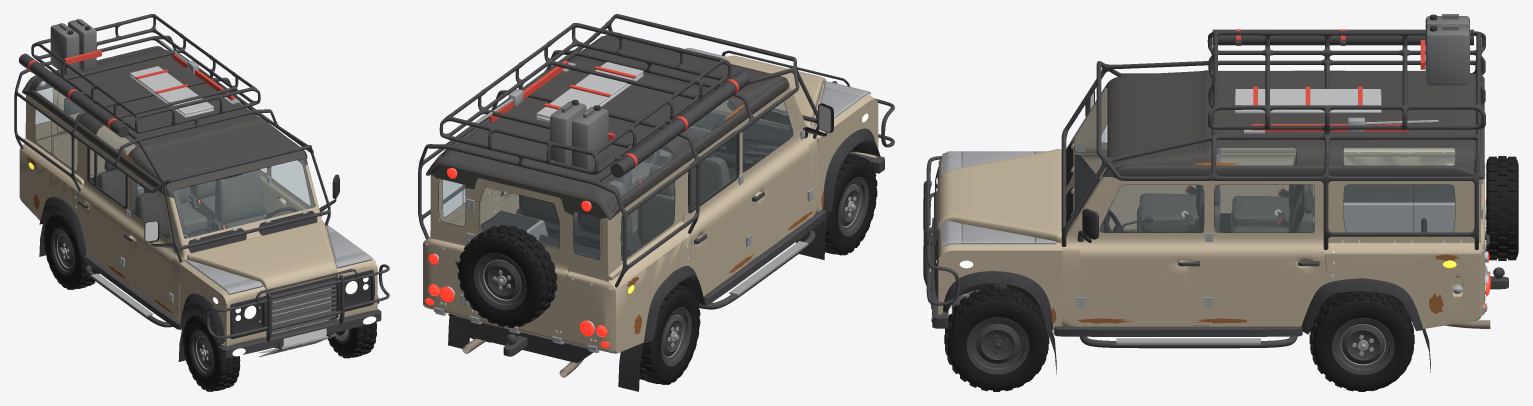
Rendered from garilla-rig.glb.
The picture shows the model from 3 angles, left to right: view 1: azimuth 30°, elevation 25°; view 2: azimuth 150°, elevation 25°; view 3: azimuth 270°, elevation 25°; orthographic projection. The views are drawn at different scales.
Visible parts, largest first — view 1: body__shell, gear__roof_rack, body__front, body__interior, body__hood, body__door_fr, body__door_rr, armor__bumper_front, wheel__fr, wheel__rr, body__door_fl, body__tailgate (+4 smaller); view 2: body__shell, gear__roof_rack, body__interior, body__door_fr, wheel__spare, body__door_rr, body__tailgate, body__front, wheel__rr, wheel__fr, armor__sliders, frame__ladder (+4 smaller); view 3: body__shell, gear__roof_rack, body__door_fl, body__door_rl, body__interior, body__front, body__hood, wheel__fl, wheel__rl, armor__sliders, wheel__spare, body__door_fr (+2 smaller).
Part boxes in pixels (<box>): body__shell: <box>19,46,322,322</box>; gear__roof_rack: <box>14,14,330,262</box>; body__front: <box>178,225,379,361</box>; body__interior: <box>78,148,297,287</box>; body__hood: <box>187,221,337,292</box>; body__door_fr: <box>123,170,176,313</box>; body__door_rr: <box>78,138,128,279</box>; armor__bumper_front: <box>206,264,389,358</box>; wheel__fr: <box>183,311,240,391</box>; wheel__rr: <box>43,211,99,289</box>; body__door_fl: <box>269,159,339,216</box>; body__tailgate: <box>52,92,135,175</box>; body__shell: <box>423,35,818,391</box>; gear__roof_rack: <box>418,14,819,287</box>; body__interior: <box>465,109,792,311</box>; body__door_fr: <box>740,91,833,262</box>; wheel__spare: <box>457,225,557,327</box>; body__door_rr: <box>683,124,754,294</box>; body__tailgate: <box>455,178,569,336</box>; body__front: <box>685,48,880,259</box>; wheel__rr: <box>639,284,700,384</box>; wheel__fr: <box>825,153,877,255</box>; armor__sliders: <box>698,209,826,309</box>; frame__ladder: <box>448,234,628,363</box>; body__shell: <box>1061,70,1490,372</box>; gear__roof_rack: <box>1061,14,1485,249</box>; body__door_fl: <box>1077,178,1208,325</box>; body__door_rl: <box>1196,180,1326,325</box>; body__interior: <box>1075,147,1458,322</box>; body__front: <box>934,151,1062,374</box>; body__hood: <box>937,149,1061,242</box>; wheel__fl: <box>944,287,1049,391</box>; wheel__rl: <box>1309,291,1414,391</box>; armor__sliders: <box>1054,229,1302,348</box>; wheel__spare: <box>1486,156,1518,260</box>; body__door_fr: <box>1080,91,1195,227</box>.
Bounding box in the file's own units: 2.27 × 2.54 × 4.55.
